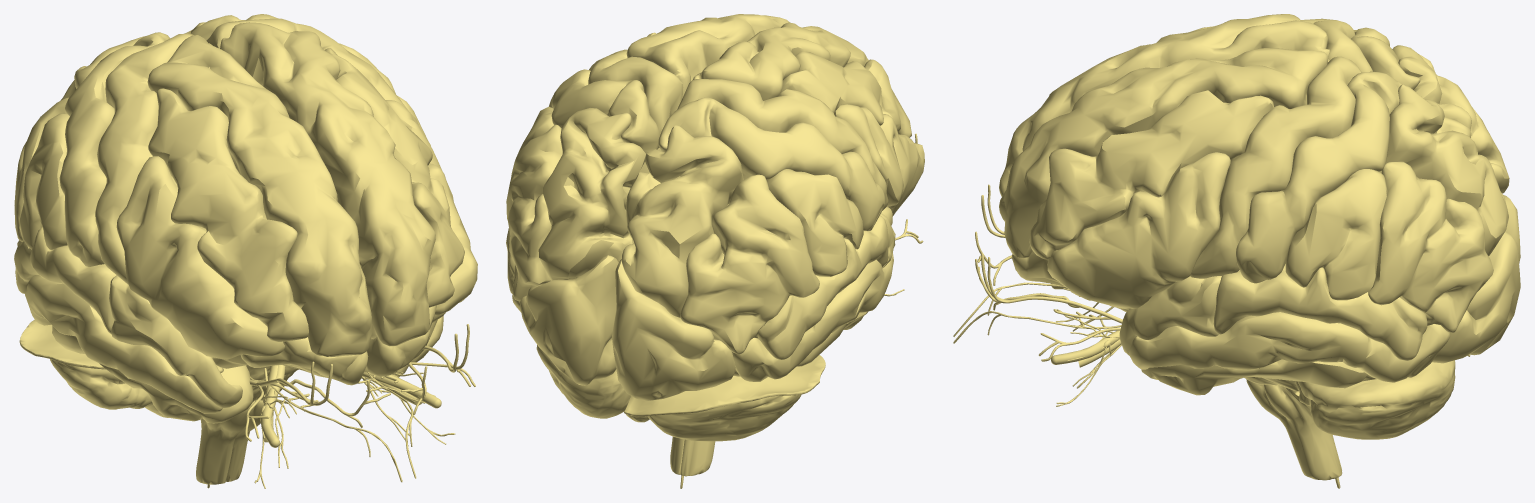
File: nervos.glb
The picture shows the model from 3 angles, left to right: view 1: azimuth 30°, elevation 25°; view 2: azimuth 150°, elevation 25°; view 3: azimuth 270°, elevation 25°; orthographic projection. The views are drawn at different scales.
Visible parts, largest first — view 1: FJ1834, FJ1833, FJ1788, FJ1745, FJ1801, FJ1798, FJ1790, FJ1787, FJ1838, FJ1842, FJ1840, FJ1794 (+17 smaller); view 2: FJ1733, FJ1836, FJ1835, FJ1792, FJ1798, FJ1791, FJ1834, FJ1732, FJ1842, FJ1801, FJ1833, FJ1788 (+11 smaller); view 3: FJ1833, FJ1787, FJ1744, FJ1732, FJ1789, FJ1797, FJ1800, FJ1834, FJ1841, FJ1835, FJ1839, FJ1781 (+10 smaller).
Boxes of the visible parts, <box> form: FJ1834: <box>147,35,372,356</box>; FJ1833: <box>220,22,435,346</box>; FJ1788: <box>148,88,308,341</box>; FJ1745: <box>116,156,285,359</box>; FJ1801: <box>95,33,193,284</box>; FJ1798: <box>59,32,170,266</box>; FJ1790: <box>25,275,222,413</box>; FJ1787: <box>324,48,464,307</box>; FJ1838: <box>109,275,242,407</box>; FJ1842: <box>19,113,69,250</box>; FJ1840: <box>14,227,116,333</box>; FJ1794: <box>211,337,368,385</box>; FJ1733: <box>680,174,819,354</box>; FJ1836: <box>622,125,743,317</box>; FJ1835: <box>538,108,645,280</box>; FJ1792: <box>612,259,735,401</box>; FJ1798: <box>658,97,885,230</box>; FJ1791: <box>520,255,618,385</box>; FJ1834: <box>693,22,868,100</box>; FJ1732: <box>506,124,562,300</box>; FJ1842: <box>767,169,863,276</box>; FJ1801: <box>677,79,888,210</box>; FJ1833: <box>626,14,789,97</box>; FJ1788: <box>778,51,911,137</box>; FJ1833: <box>999,48,1329,258</box>; FJ1787: <box>1029,90,1273,259</box>; FJ1744: <box>1047,152,1230,308</box>; FJ1732: <box>1368,161,1493,332</box>; FJ1789: <box>1128,312,1450,382</box>; FJ1797: <box>1236,71,1401,283</box>; FJ1800: <box>1190,56,1361,278</box>; FJ1834: <box>999,14,1329,196</box>; FJ1841: <box>1285,169,1387,300</box>; FJ1835: <box>1379,84,1508,255</box>; FJ1839: <box>1213,264,1427,360</box>; FJ1781: <box>1296,360,1455,439</box>.
Bounding box in the file's own units: 0.1408 × 0.1718 × 0.1958.
